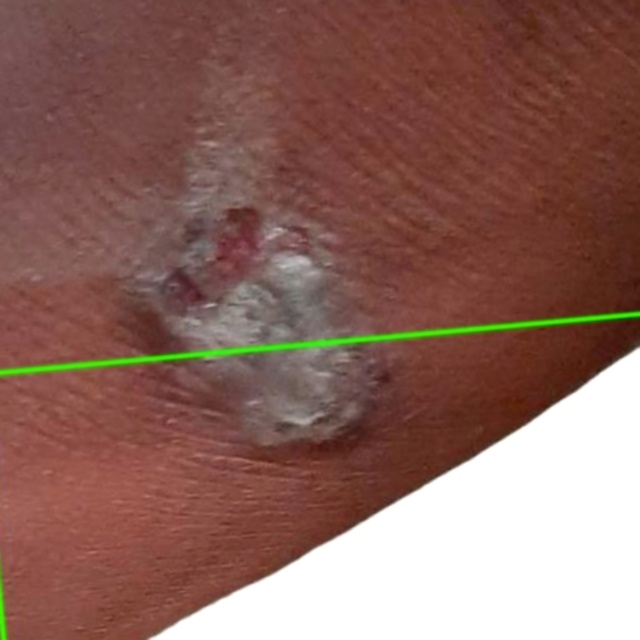Contact Dermatitis: (0, 314, 639, 639)
